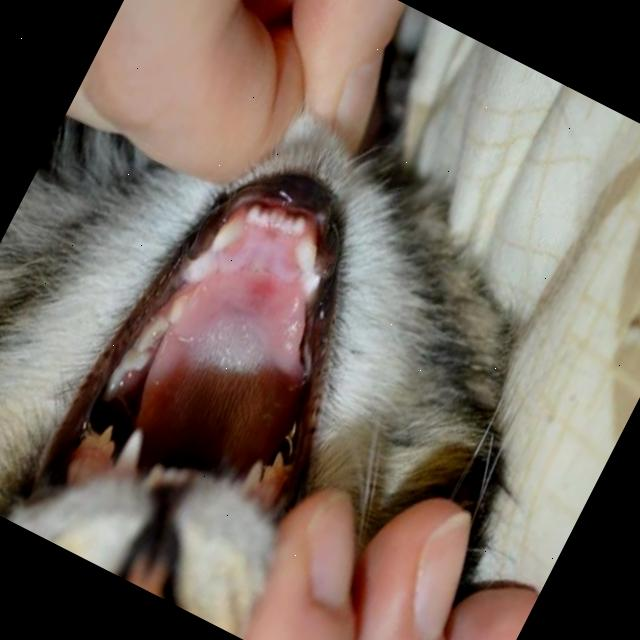cat-lump-and-bump: (228, 250, 298, 334)
